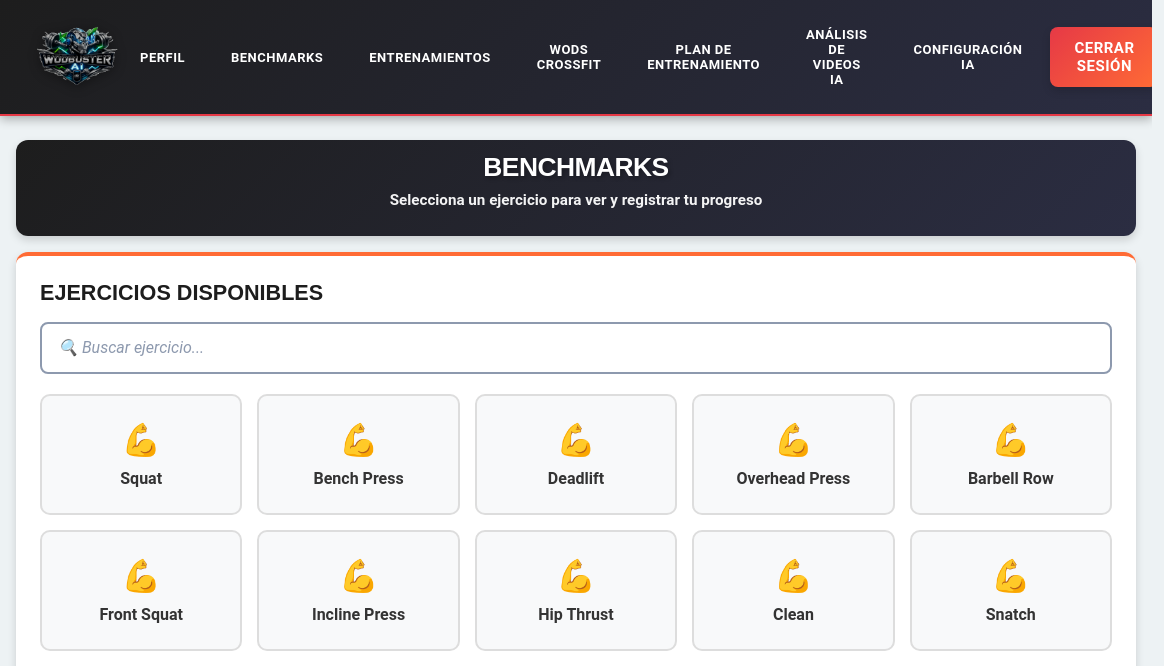
Benchmarks (componente) › renderiza la lista de ejercicios y permite seleccionar uno
Expected: the heading "Benchmarks" is shown, [483,152,669,182]
Expected: the heading "Ejercicios Disponibles" is shown, [40,280,323,305]
Seleccionar el botón único de 'Snatch'
What coordinates should you click on to do the following:
click the button "💪 Snatch"
I would click on:
 (1011, 590)
Its box is [910,530,1112,651].
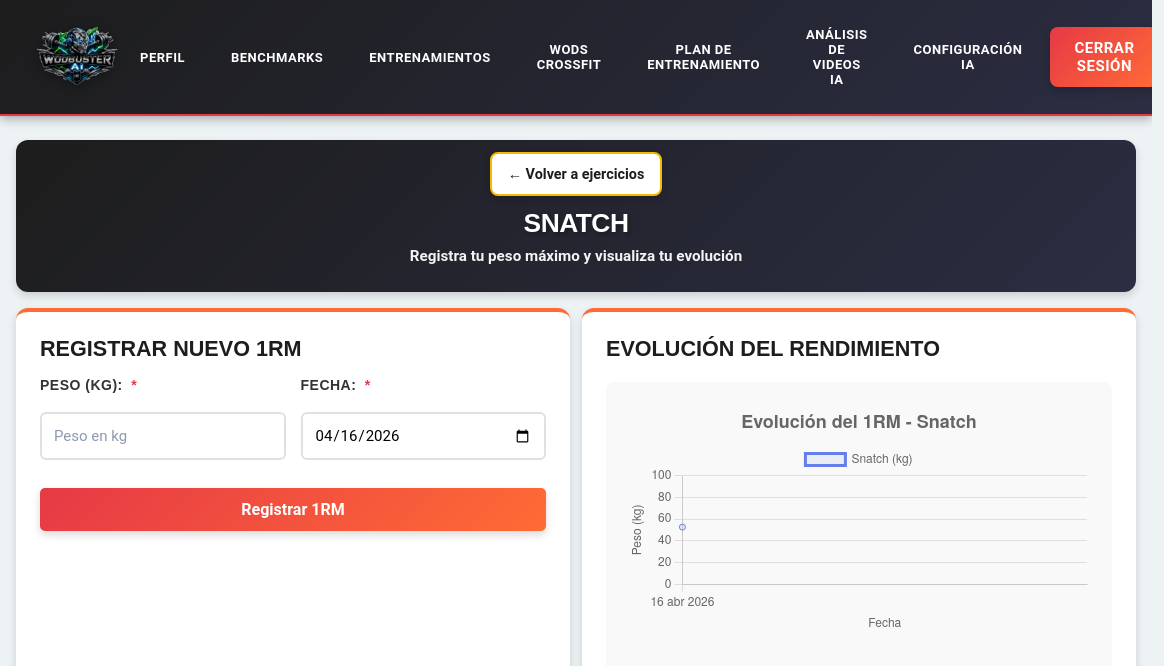
Result: the heading "Registrar Nuevo 1RM" is shown at [40,336,302,361]
